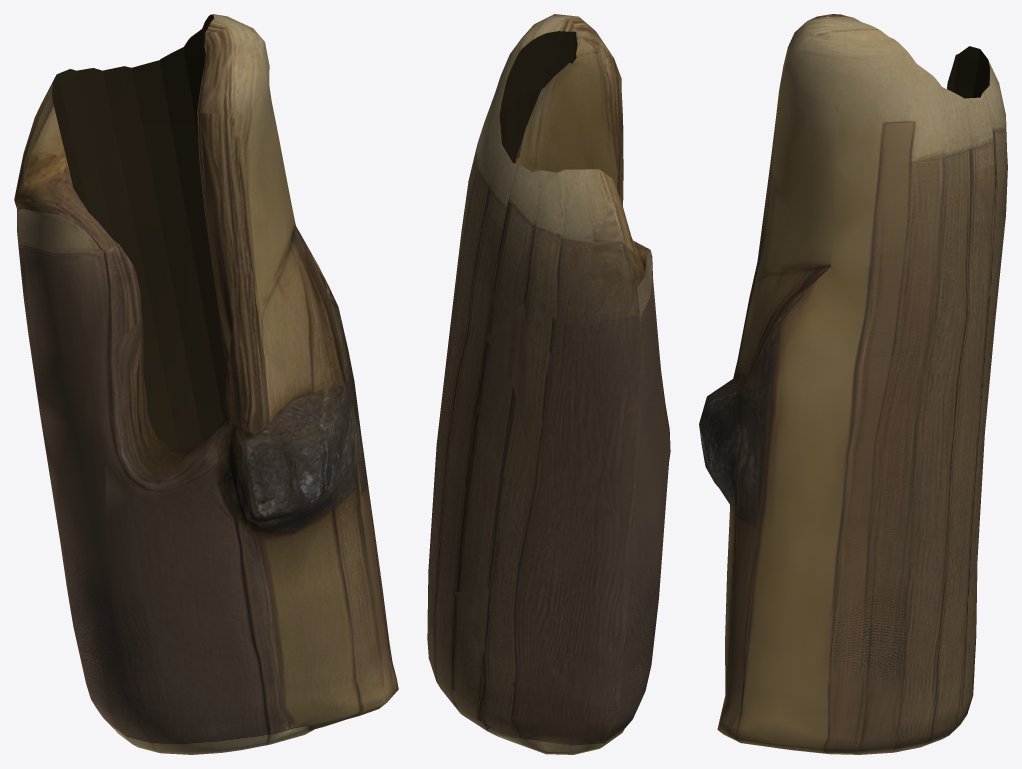
Rendered from PenSleeve-v2.glb.
3 views of the same model, side by side, from view 1: azimuth 30°, elevation 25°; view 2: azimuth 150°, elevation 25°; view 3: azimuth 270°, elevation 25° (orthographic). The views are drawn at different scales.
Parts seen in each view (by area): view 1: PenSleeve; view 2: PenSleeve; view 3: PenSleeve.
Part boxes in pixels (x1,y1,x2,y2): PenSleeve: (14, 14, 398, 754); PenSleeve: (427, 14, 670, 754); PenSleeve: (699, 14, 1007, 754).
Bounding box in the file's own units: 0.0334 × 0.0825 × 0.032.
Materials: 1 (1 with a texture image).
